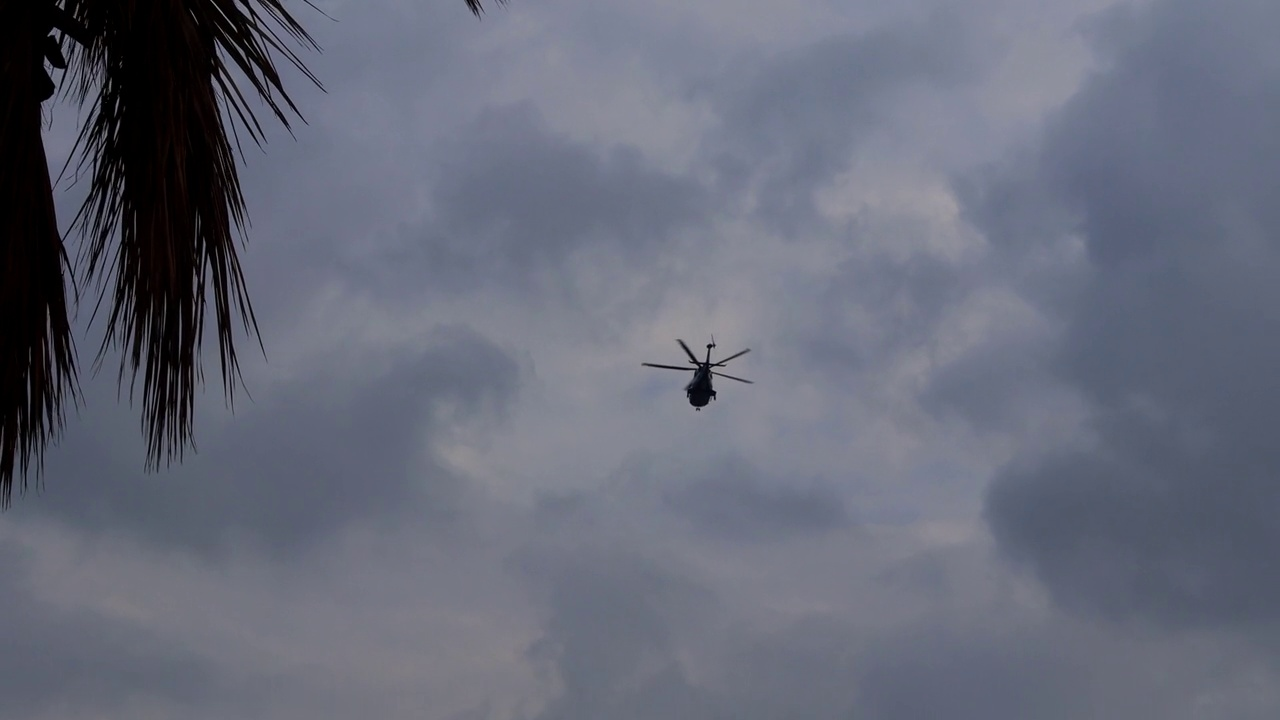heli: (641, 339, 753, 412)
